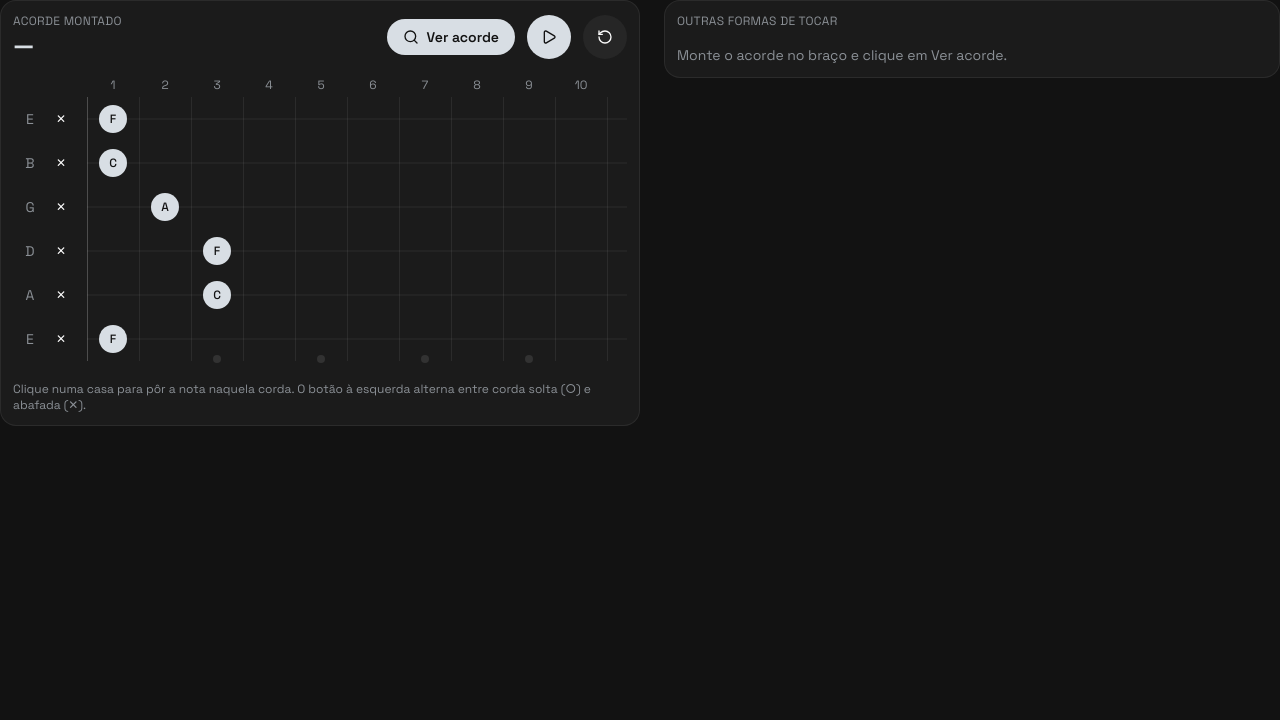
Test: ChordPanel › fingering and barre › says where the barre goes when the shape needs one
Click the button "Ver acorde": (451, 37) x1=386 y1=19 x2=515 y2=55
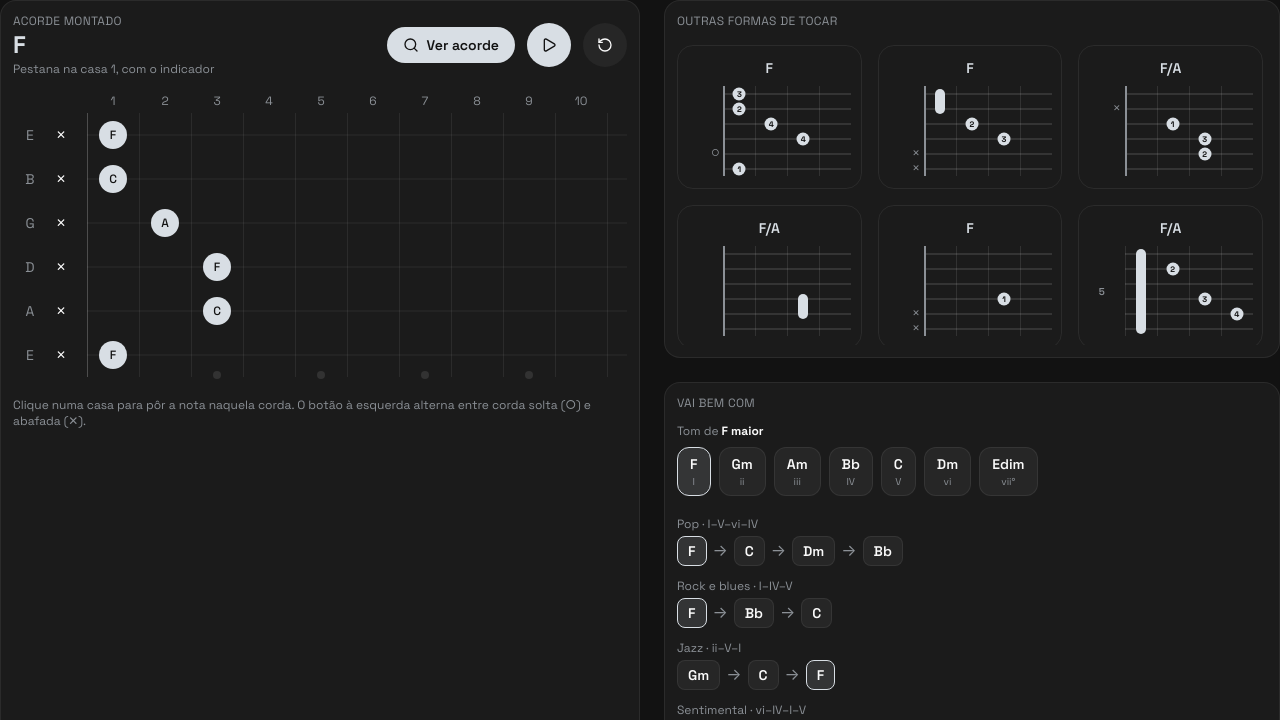
Result: the text with test id "barre-hint" shows "casa 1" at x1=13 y1=61 x2=214 y2=77
